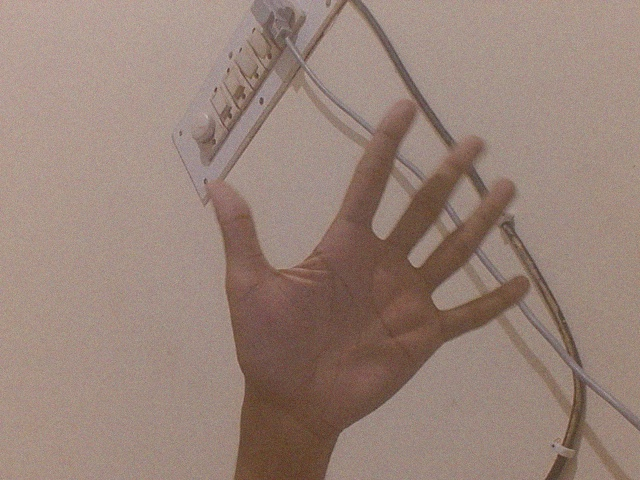hand: (200, 94, 545, 449)
